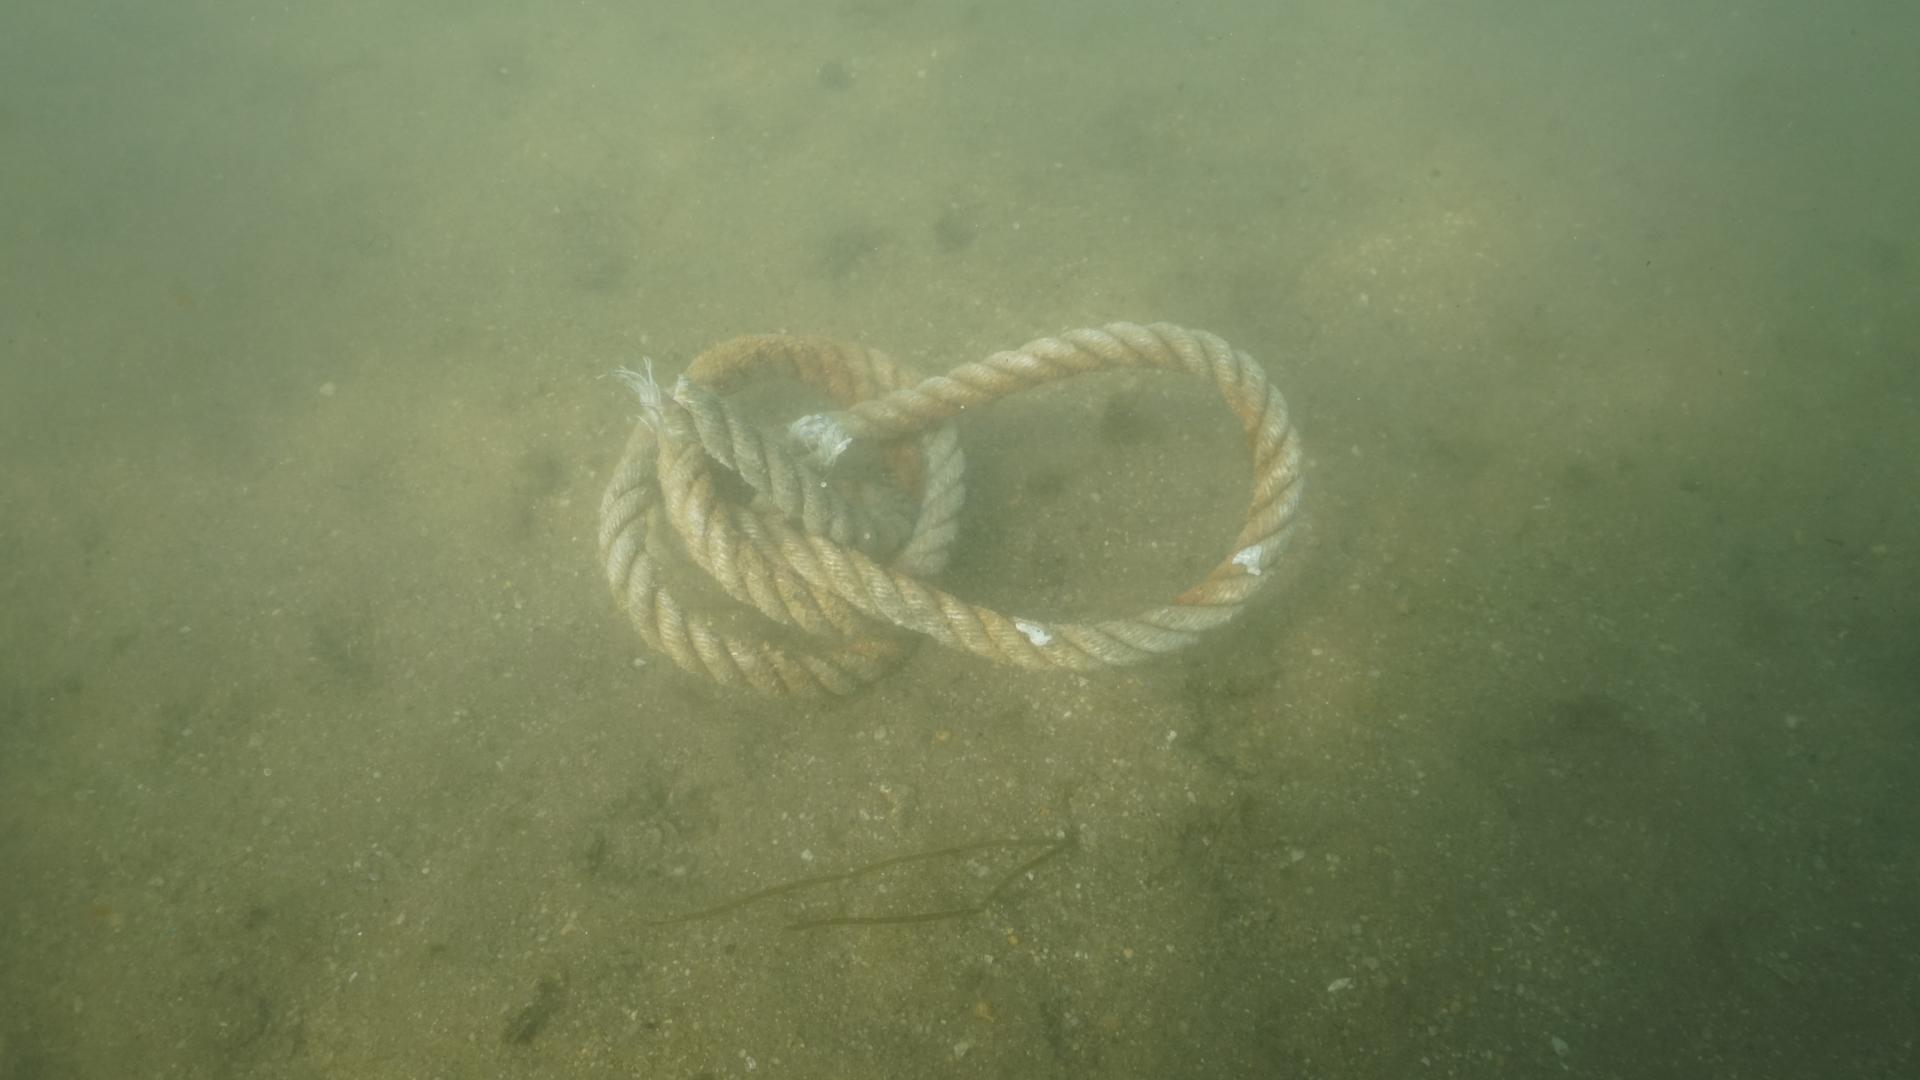bundle of ropes: (592, 315, 1313, 717)
